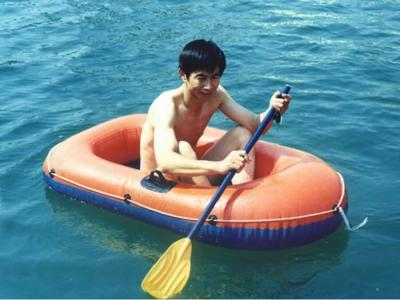person: (140, 39, 291, 188)
